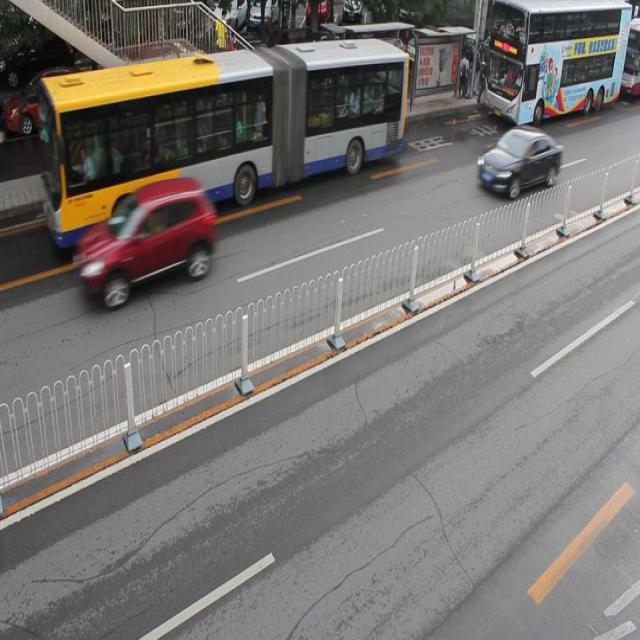car: (77, 177, 216, 308), (1, 66, 97, 136), (476, 124, 560, 201), (105, 57, 189, 124), (205, 36, 275, 103), (300, 37, 361, 92)
van: (42, 37, 407, 245), (482, 1, 631, 129)
